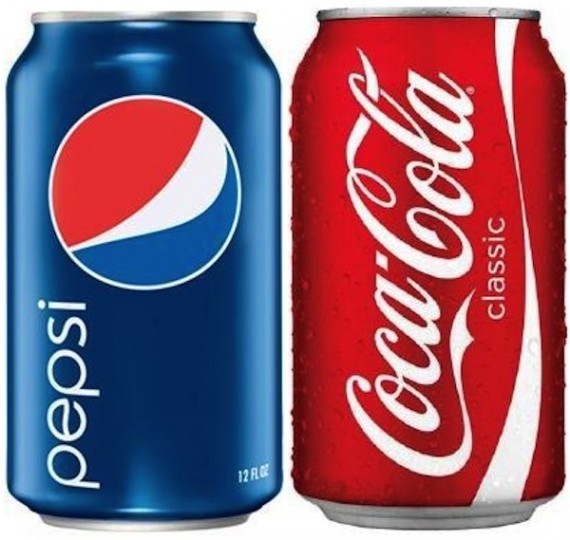pepsi: (45, 92, 242, 290)
